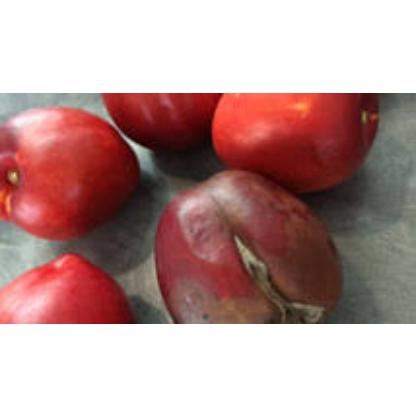apple: (209, 96, 362, 176), (6, 249, 126, 317)
damaged_apple: (155, 166, 337, 314), (2, 107, 136, 237)
